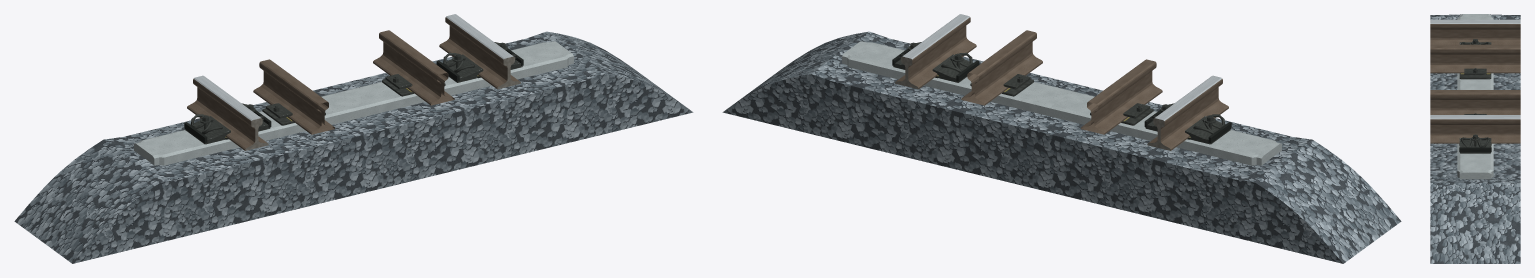
Rendered from center_guard_high.obj.
3 renders of one model, left to right at view 1: azimuth 30°, elevation 25°; view 2: azimuth 150°, elevation 25°; view 3: azimuth 270°, elevation 25°, orthographic. The views are drawn at different scales.
Parts seen in each view (by area): view 1: ballast, sleeper, center_guard_left, center_guard_right, rail_left, rail_right, fastener_left, fastener_right, center_fastener_left, center_fastener_right; view 2: ballast, sleeper, center_guard_left, center_guard_right, rail_left, rail_right, fastener_left, fastener_right, center_fastener_left, center_fastener_right; view 3: ballast, center_guard_left, rail_right, rail_left, center_guard_right, sleeper, fastener_right, center_fastener_left, fastener_left.
Boxes of the visible parts, bbox=[...] form: ballast: bbox=[14, 31, 693, 263]; sleeper: bbox=[134, 41, 573, 165]; center_guard_left: bbox=[253, 59, 334, 134]; center_guard_right: bbox=[373, 30, 454, 105]; rail_left: bbox=[187, 75, 266, 150]; rail_right: bbox=[439, 14, 519, 88]; fastener_left: bbox=[184, 103, 271, 144]; fastener_right: bbox=[436, 42, 523, 82]; center_fastener_left: bbox=[262, 103, 325, 125]; center_fastener_right: bbox=[382, 74, 445, 96]; ballast: bbox=[722, 31, 1401, 263]; sleeper: bbox=[842, 41, 1281, 165]; center_guard_left: bbox=[1081, 59, 1162, 134]; center_guard_right: bbox=[961, 30, 1042, 105]; rail_left: bbox=[1149, 75, 1228, 150]; rail_right: bbox=[896, 14, 976, 88]; fastener_left: bbox=[1144, 103, 1231, 144]; fastener_right: bbox=[892, 42, 979, 82]; center_fastener_left: bbox=[1090, 103, 1153, 125]; center_fastener_right: bbox=[970, 74, 1033, 96]; ballast: bbox=[1430, 14, 1520, 263]; center_guard_left: bbox=[1430, 44, 1520, 73]; rail_right: bbox=[1430, 115, 1520, 143]; rail_left: bbox=[1430, 19, 1520, 44]; center_guard_right: bbox=[1430, 90, 1520, 114]; sleeper: bbox=[1457, 14, 1493, 179]; fastener_right: bbox=[1459, 134, 1491, 153]; center_fastener_left: bbox=[1459, 68, 1491, 79]; fastener_left: bbox=[1459, 39, 1491, 44].
Bounding box in the file's own units: 3.7 × 0.5683 × 0.6.
Materials: 1 (1 with a texture image).
